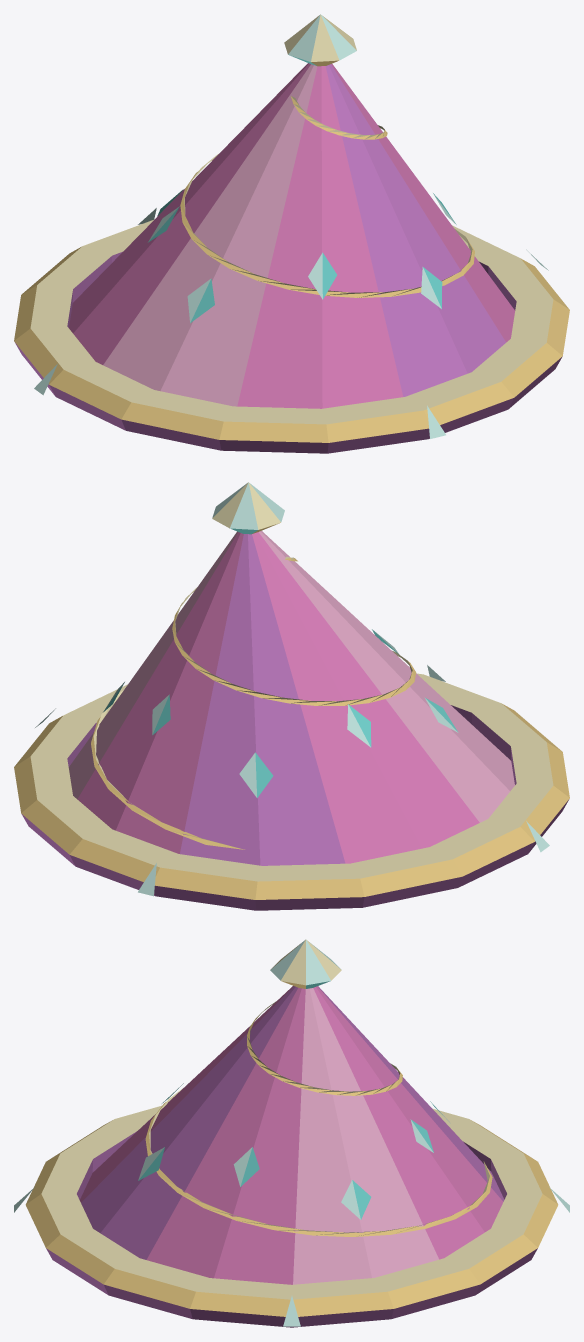
Rendered from party_hat.glb.
3 renders of one model, top to bottom at view 1: azimuth 30°, elevation 25°; view 2: azimuth 150°, elevation 25°; view 3: azimuth 270°, elevation 25°, orthographic. The views are drawn at different scales.
Visible parts, largest first — view 1: head, pom; view 2: head, pom; view 3: head, pom.
Part boxes in pixels (x1,y1,x2,y2): head: [14, 63, 569, 453]; pom: [284, 14, 356, 66]; head: [14, 531, 569, 910]; pom: [212, 482, 284, 534]; head: [14, 986, 569, 1327]; pom: [270, 939, 341, 988].
Bounding box in the file's own units: 9.14 × 5.36 × 9.14.
